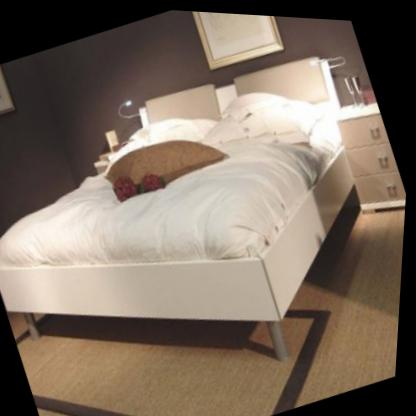Bed: (0, 27, 415, 416)
Nightstand: (338, 97, 408, 208)
